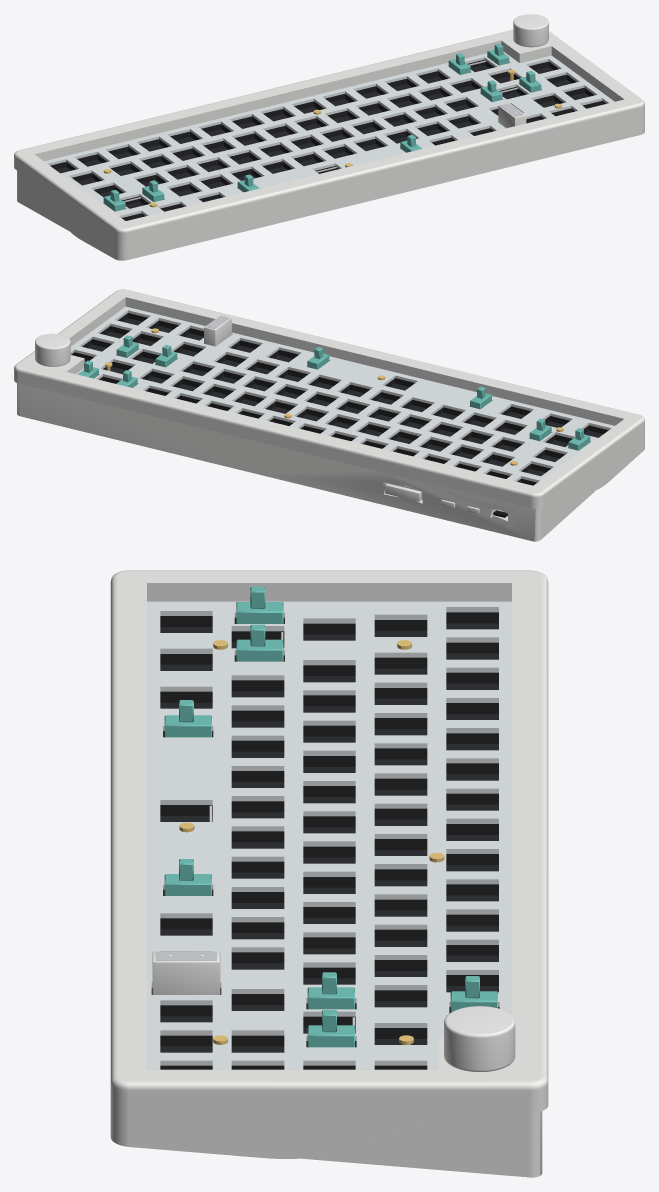
Rendered from gmk67.glb.
3 renders of one model, top to bottom at view 1: azimuth 30°, elevation 25°; view 2: azimuth 150°, elevation 25°; view 3: azimuth 270°, elevation 25°, orthographic. The views are drawn at different scales.
Visible parts, largest first — view 1: upperLid, plate, plateFoam, pcb, pcbFoam, stabilizers, knob, lowerLid, ledIndicator; view 2: upperLid, plate, lowerLid, plateFoam, pcb, pcbFoam, stabilizers, knob, rearLight, ledIndicator; view 3: plate, upperLid, plateFoam, pcb, pcbFoam, lowerLid, stabilizers, knob, ledIndicator.
Boxes of the visible parts, x1,y1,x2,y2 form: upperLid: (14, 30, 644, 260); plate: (44, 51, 614, 217); plateFoam: (50, 59, 606, 219); pcb: (56, 65, 589, 208); pcbFoam: (53, 62, 603, 220); stabilizers: (103, 43, 541, 211); knob: (513, 14, 548, 47); lowerLid: (17, 171, 69, 231); ledIndicator: (498, 103, 526, 128); upperLid: (14, 289, 644, 508); plate: (70, 306, 614, 482); lowerLid: (17, 383, 595, 541); plateFoam: (71, 313, 608, 484); pcb: (84, 318, 602, 475); pcbFoam: (73, 315, 605, 485); stabilizers: (77, 335, 590, 450); knob: (35, 333, 70, 366); rearLight: (385, 483, 479, 513); ledIndicator: (204, 315, 231, 346); plate: (147, 601, 511, 1069); upperLid: (110, 570, 548, 1158); plateFoam: (151, 612, 499, 1069); pcb: (160, 623, 498, 1052); pcbFoam: (160, 618, 498, 1046); lowerLid: (302, 1111, 542, 1177); stabilizers: (164, 586, 497, 1047); knob: (444, 1006, 515, 1072); ledIndicator: (152, 951, 220, 994).
Size of what is drawn, in the model's own units: 32.5 by 4.01 by 11.65.
